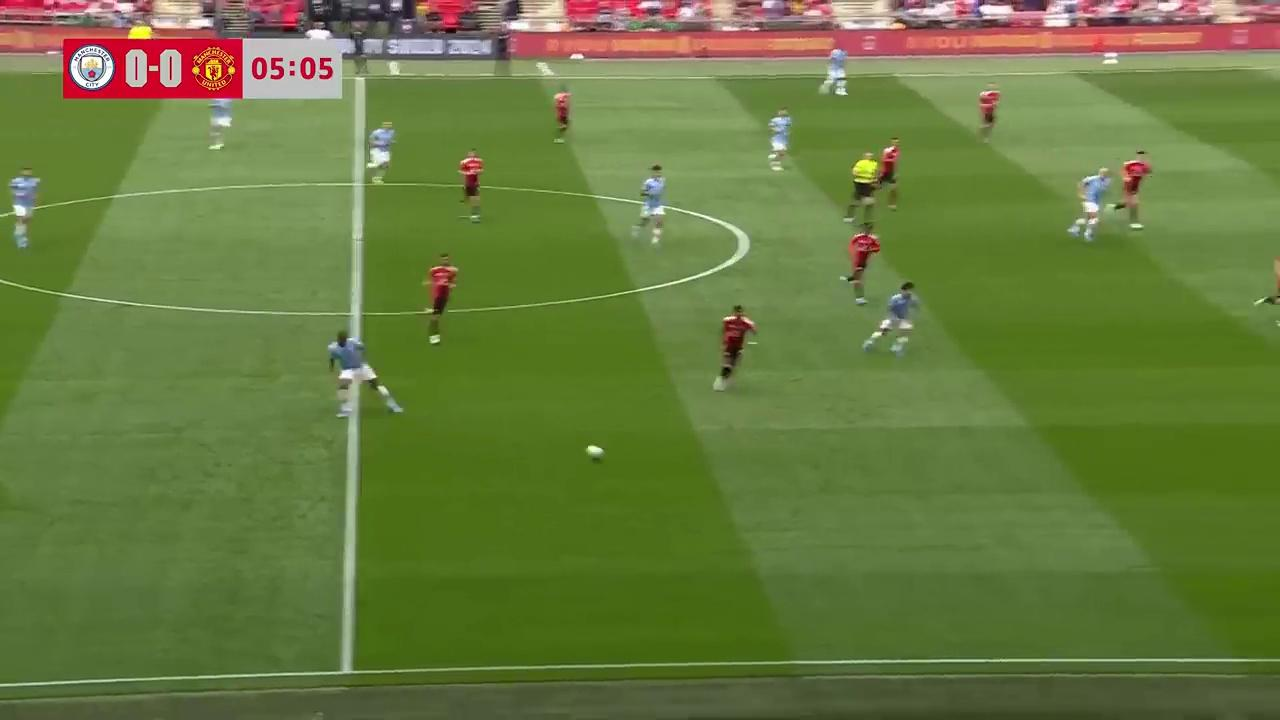ball: (584, 441, 607, 462)
player: (327, 324, 404, 418), (862, 280, 921, 355), (712, 304, 757, 391), (422, 252, 458, 344), (840, 221, 880, 303), (1067, 169, 1110, 242), (1117, 149, 1152, 229), (633, 163, 666, 246), (8, 166, 40, 249), (872, 136, 901, 208), (458, 149, 483, 223), (367, 120, 396, 181), (1252, 251, 1280, 312), (817, 43, 849, 96), (767, 107, 791, 171), (977, 84, 1001, 143), (207, 95, 232, 149), (552, 87, 572, 142)
referee: (843, 150, 880, 222)
